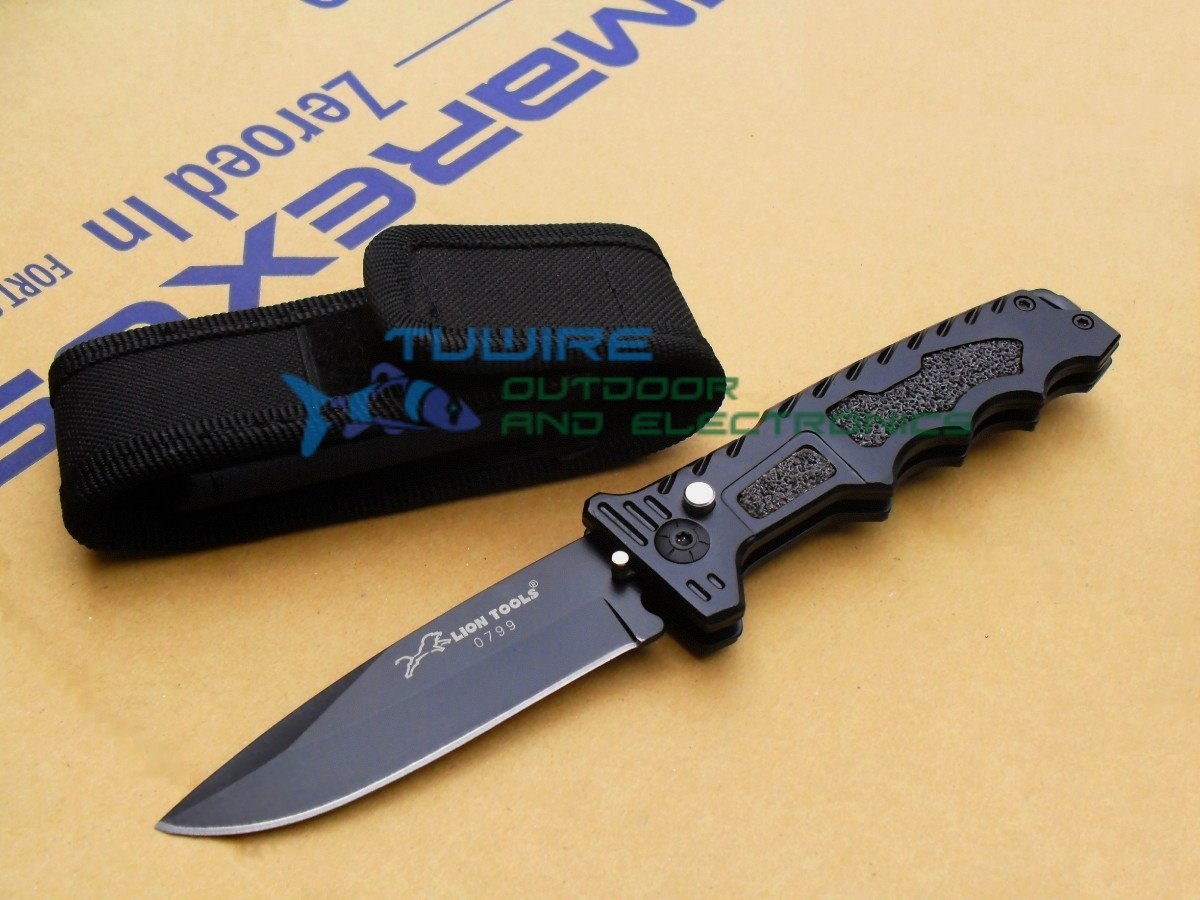knife: (141, 534, 670, 851)
